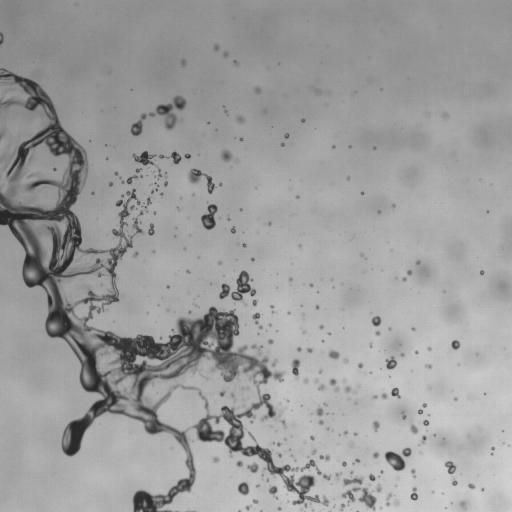droplet: (219, 270, 255, 305), (341, 476, 376, 511), (149, 96, 186, 129), (384, 448, 411, 470), (201, 204, 217, 229), (132, 151, 155, 165), (444, 461, 456, 475), (237, 482, 249, 495), (170, 151, 181, 164), (385, 356, 396, 369), (268, 485, 277, 498), (221, 150, 231, 161), (247, 463, 258, 473), (371, 316, 381, 326), (328, 350, 339, 359), (410, 487, 417, 500), (391, 387, 400, 397), (451, 340, 460, 349), (410, 423, 418, 433), (372, 420, 379, 431), (319, 454, 330, 461), (316, 406, 323, 416), (236, 116, 244, 123), (375, 484, 381, 492), (254, 86, 260, 93), (252, 299, 258, 306), (318, 384, 325, 390), (219, 390, 225, 397), (381, 392, 387, 399), (280, 419, 286, 426), (212, 456, 219, 462), (236, 460, 243, 466), (369, 474, 376, 480), (468, 483, 475, 489), (242, 385, 250, 390), (372, 452, 378, 458), (452, 478, 457, 485), (460, 501, 465, 508), (411, 469, 415, 477), (214, 44, 219, 50), (230, 227, 235, 233), (133, 251, 138, 257), (423, 420, 429, 425), (335, 472, 340, 478), (272, 359, 276, 366), (284, 133, 289, 138), (407, 270, 412, 275), (268, 339, 273, 344), (343, 358, 348, 363), (358, 362, 363, 367), (303, 378, 308, 383), (311, 449, 316, 454), (394, 500, 399, 505), (181, 59, 185, 65), (158, 154, 164, 158), (425, 364, 431, 368), (402, 413, 406, 419), (223, 52, 228, 56), (443, 112, 447, 117), (185, 154, 190, 158), (375, 331, 380, 335), (307, 348, 312, 352), (372, 395, 377, 399), (418, 409, 422, 414), (318, 420, 323, 424), (342, 461, 346, 466), (245, 505, 250, 509), (301, 118, 305, 122), (114, 171, 118, 175), (416, 260, 420, 264), (480, 270, 484, 274), (402, 277, 406, 281), (319, 325, 323, 329), (297, 347, 301, 351), (422, 403, 426, 407), (310, 436, 314, 440), (276, 442, 280, 446), (277, 453, 281, 457), (253, 499, 257, 503), (354, 459, 359, 462), (234, 60, 237, 64), (164, 181, 167, 185), (108, 182, 112, 185), (242, 243, 245, 247), (315, 305, 319, 308), (369, 343, 372, 347), (427, 347, 431, 350), (319, 369, 322, 373), (454, 397, 457, 401), (350, 443, 353, 447), (0, 133, 2, 138), (281, 143, 284, 146), (152, 189, 155, 192), (251, 257, 254, 260), (218, 261, 221, 264), (186, 270, 189, 273), (412, 327, 415, 330), (302, 330, 305, 333), (415, 350, 418, 353), (315, 379, 318, 382), (343, 379, 346, 382), (344, 431, 347, 434), (491, 447, 494, 450), (350, 471, 353, 474), (278, 507, 281, 510), (53, 168, 56, 170), (164, 174, 167, 176), (347, 176, 349, 179), (219, 183, 222, 185), (268, 222, 271, 224), (289, 278, 292, 280), (310, 283, 312, 286), (166, 286, 169, 288), (188, 311, 191, 313), (401, 353, 403, 356), (354, 432, 356, 435), (266, 479, 269, 481), (257, 484, 259, 487), (240, 138, 242, 140), (332, 145, 334, 147), (121, 180, 123, 182), (361, 192, 363, 194), (393, 204, 395, 206), (328, 332, 330, 334), (461, 447, 463, 449)
ligament: (0, 67, 328, 511), (188, 169, 215, 193), (130, 113, 146, 135), (125, 169, 140, 184), (291, 358, 300, 379), (132, 217, 143, 233), (252, 312, 262, 328), (329, 378, 339, 391), (344, 384, 355, 393), (385, 493, 392, 505), (148, 223, 154, 235), (156, 167, 162, 178), (420, 435, 426, 445), (339, 503, 345, 511), (230, 393, 235, 402), (0, 32, 3, 44), (314, 89, 320, 93), (271, 305, 274, 313), (30, 173, 36, 176), (188, 510, 195, 511), (174, 510, 178, 511)
